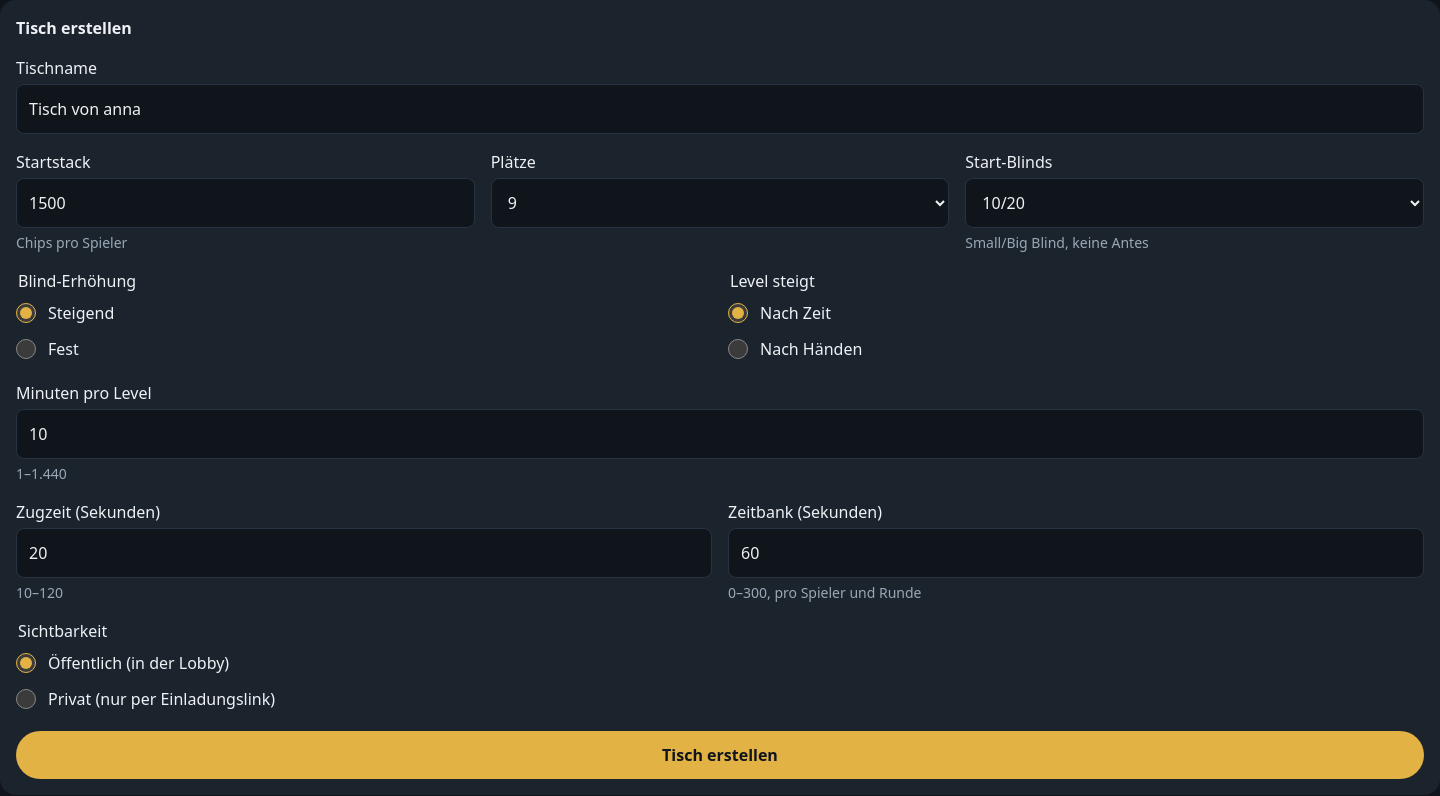
Test: CreateTableForm › zeigt Serverfehler
The width and height of the screenshot is (1440, 796).
Click the button "Tisch erstellen" at {"x": 720, "y": 755}, box x1=16 y1=731 x2=1424 y2=779
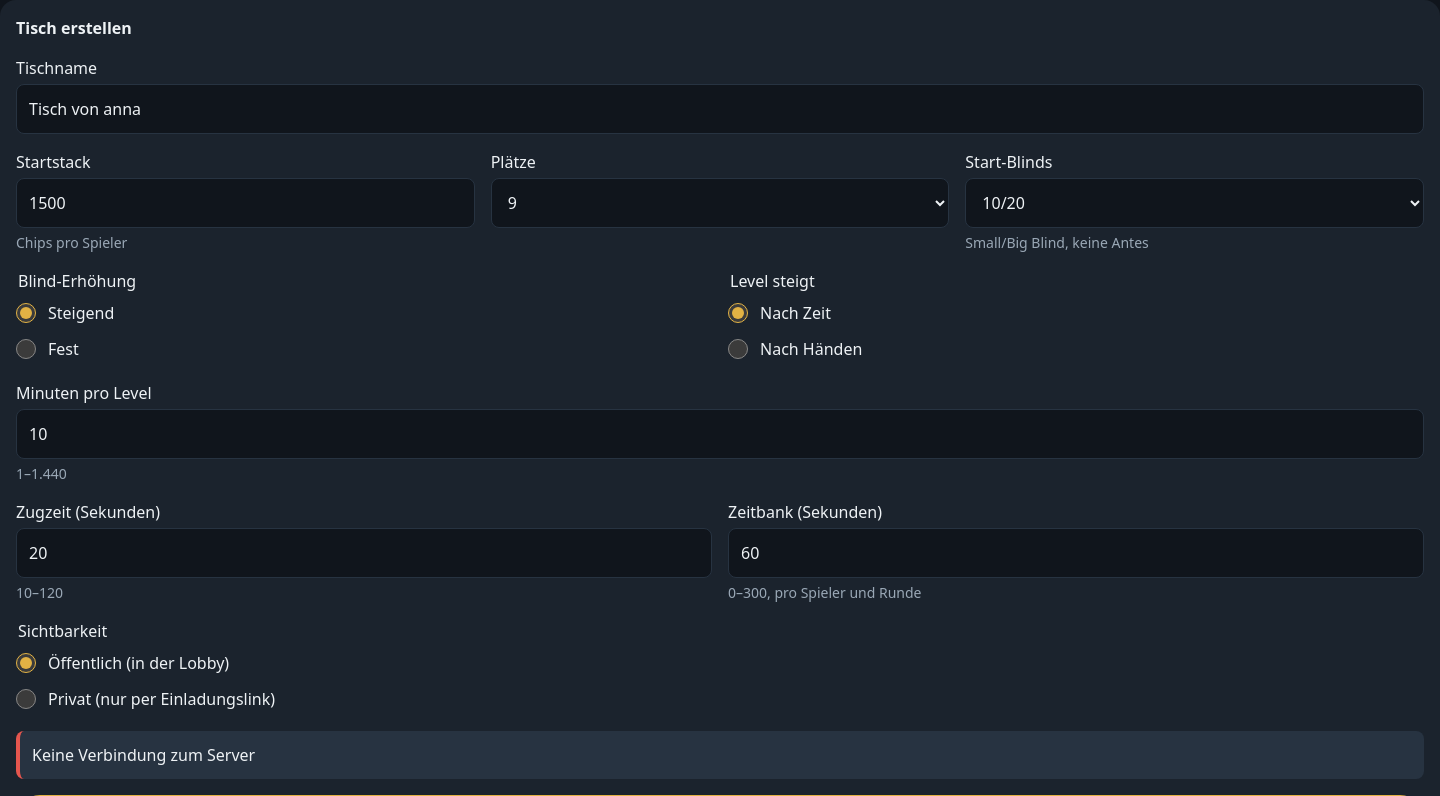
Now the message reads "Keine Verbindung zum Server", box x1=32 y1=744 x2=255 y2=766
